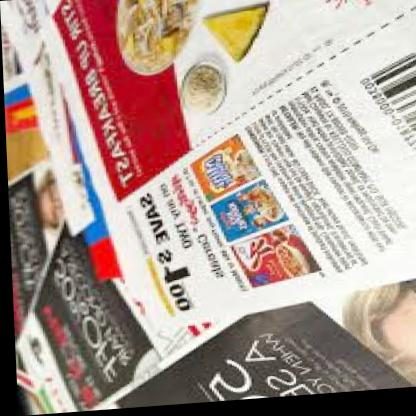Paper: (7, 0, 416, 415)
